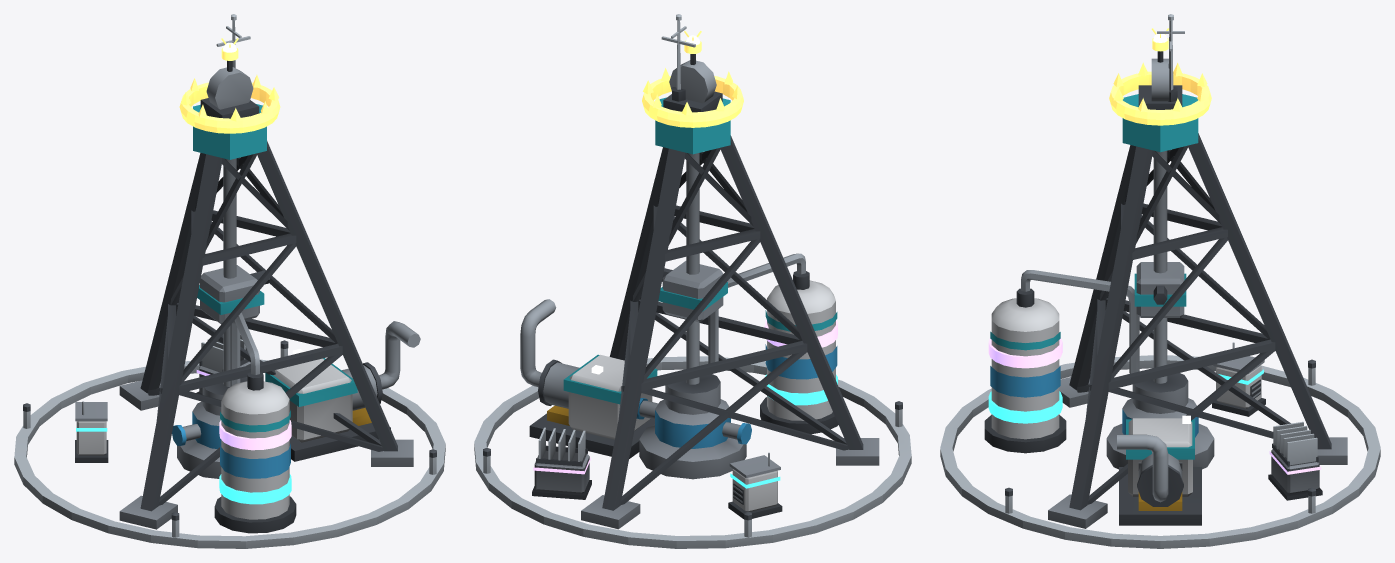
Rendered from water_extractor_m.glb.
The picture shows the model from 3 angles, left to right: view 1: azimuth 30°, elevation 25°; view 2: azimuth 150°, elevation 25°; view 3: azimuth 270°, elevation 25°; orthographic projection.
Parts seen in each view (by area): view 1: Base, L2, L5, L3, L4; view 2: Base, L2, L4, L3, L5; view 3: Base, L2, L4, L5, L3.
Boxes of the visible parts, x1=… form: Base: x1=119, y1=67, x2=420, y2=533; L2: x1=14, y1=14, x2=445, y2=548; L5: x1=179, y1=38, x2=280, y2=133; L3: x1=75, y1=401, x2=291, y2=504; L4: x1=196, y1=334, x2=291, y2=450; Base: x1=520, y1=60, x2=879, y2=529; L2: x1=474, y1=14, x2=911, y2=548; L4: x1=532, y1=319, x2=837, y2=499; L3: x1=728, y1=374, x2=837, y2=519; L5: x1=642, y1=31, x2=743, y2=127; Base: x1=984, y1=58, x2=1347, y2=528; L2: x1=940, y1=14, x2=1380, y2=548; L4: x1=988, y1=337, x2=1322, y2=500; L5: x1=1109, y1=28, x2=1211, y2=125; L3: x1=988, y1=342, x2=1265, y2=423.
Size of the model in its own units: 5.06 by 5.66 by 5.06.
